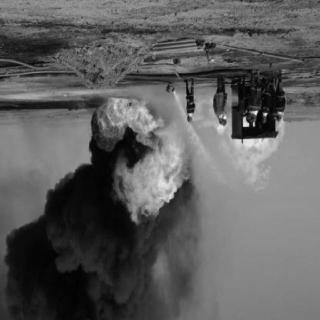Fire: (94, 94, 194, 230)
